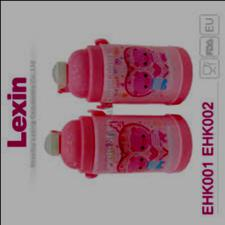Plastic: (48, 41, 197, 110), (42, 109, 192, 176)
